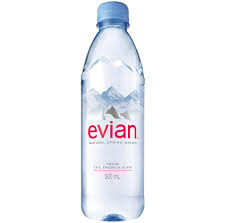PlasticBottle: (79, 1, 151, 221)
